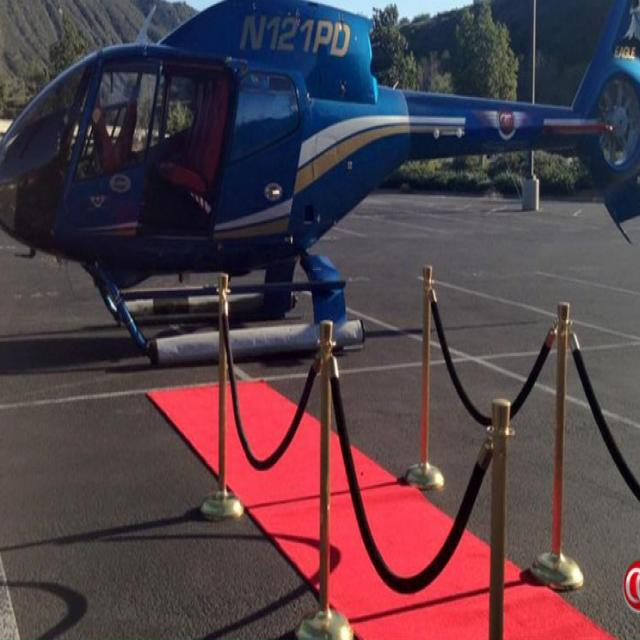helicopter: (1, 1, 640, 387)
